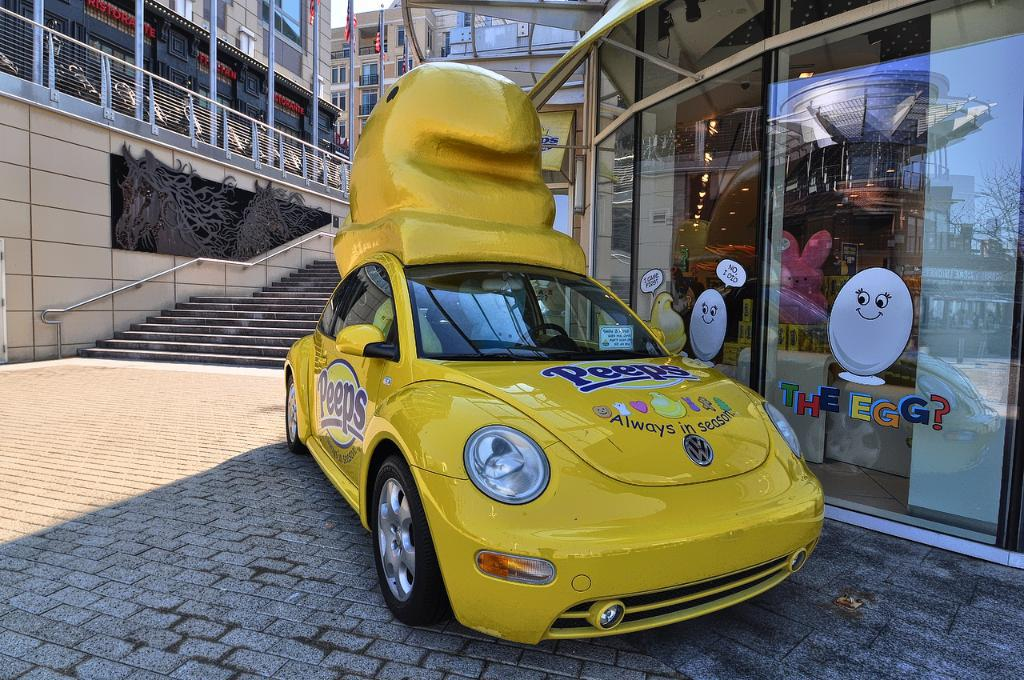taxi: (285, 62, 826, 646)
